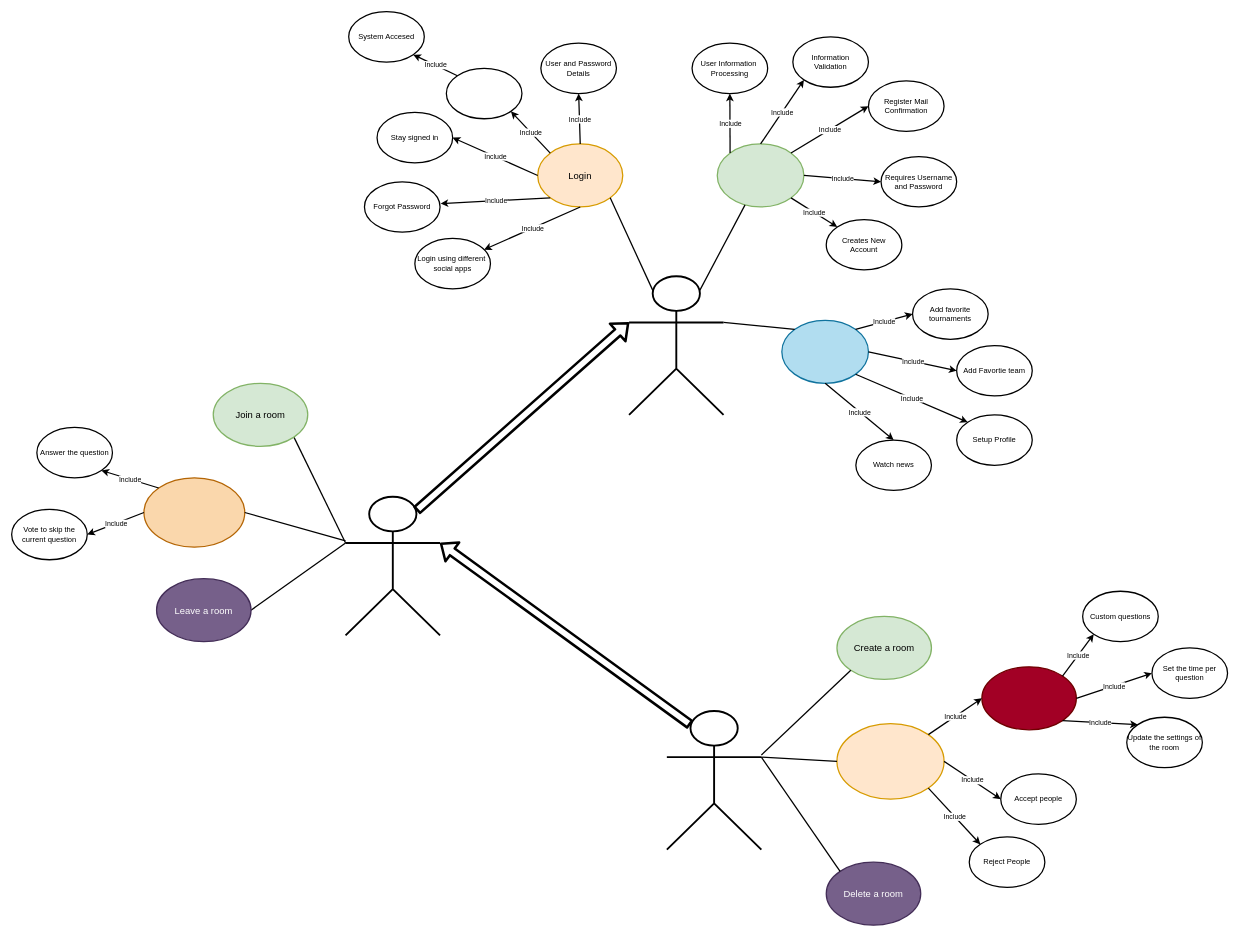
The diagram is 1239 pixels wide and 936 high, and some of its shapes have lost their labels. Here are the shapes that lost their labels. From the top down, the centre of each, then its label:
point (483, 93): Details Validation
point (760, 175): Register
point (676, 345): User
point (825, 351): Visit Website
point (194, 512): Play in a room
point (392, 565): Simple Player
point (1029, 698): Update the settings
point (714, 780): Host Player
point (890, 761): Host a room
